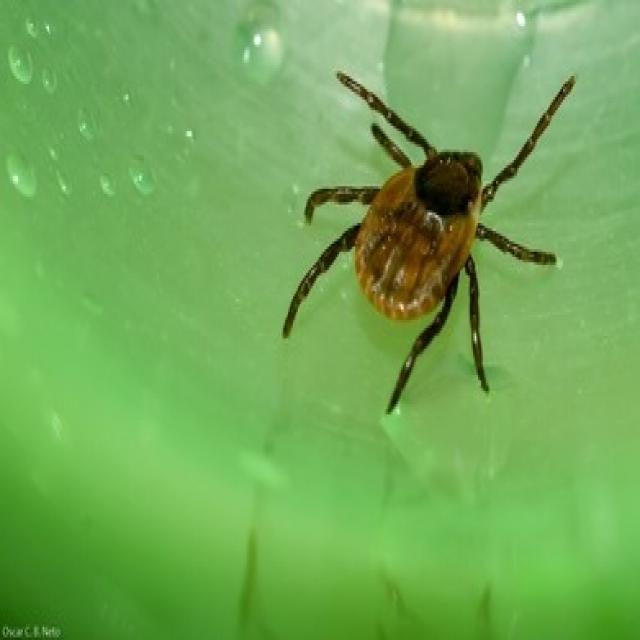Rhipicephalus Sanguineus-F: (282, 71, 576, 414)
